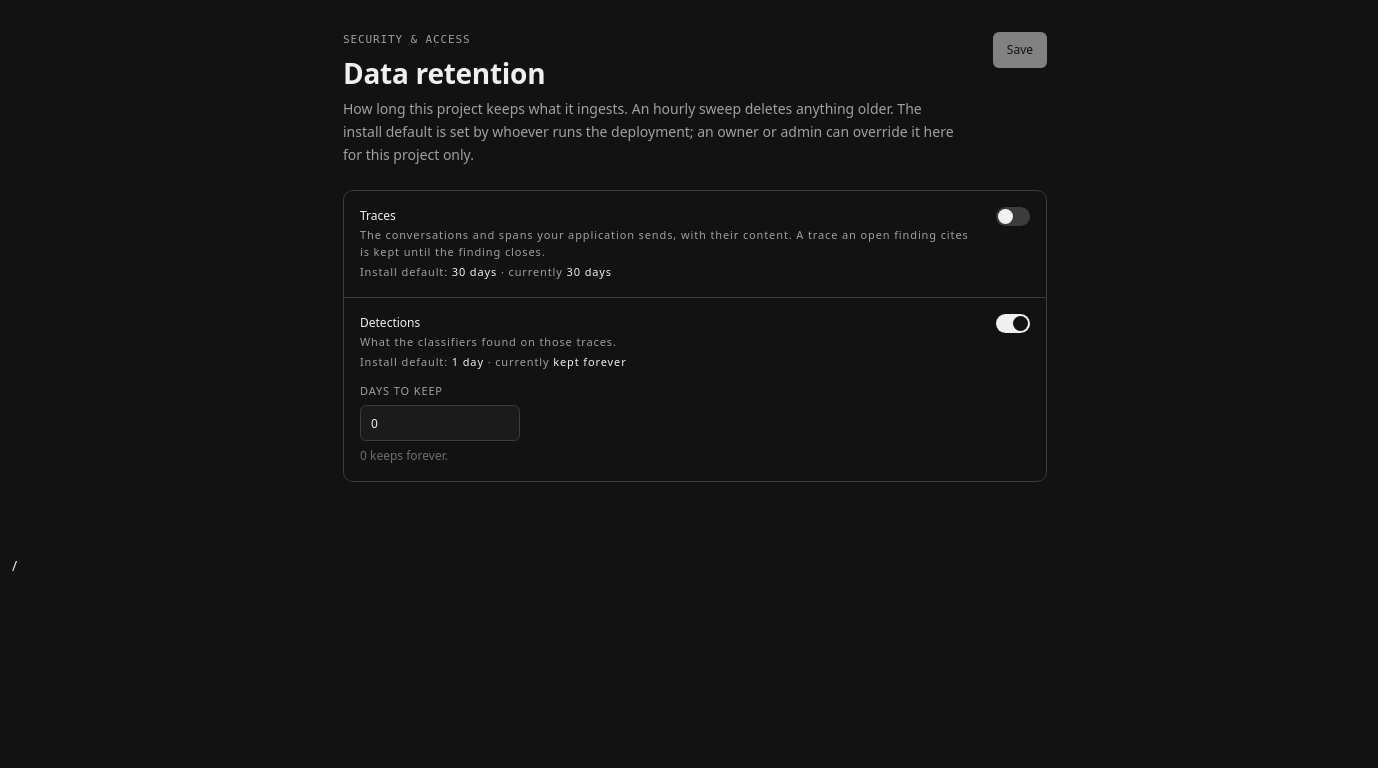
saving › shows what the server stored after a save, not what was typed
Expected: the text "Traces" is shown, [360,207,396,224]
Click the 1st switch named "Override for this project".
click(1013, 217)  # box [996,207,1030,226]
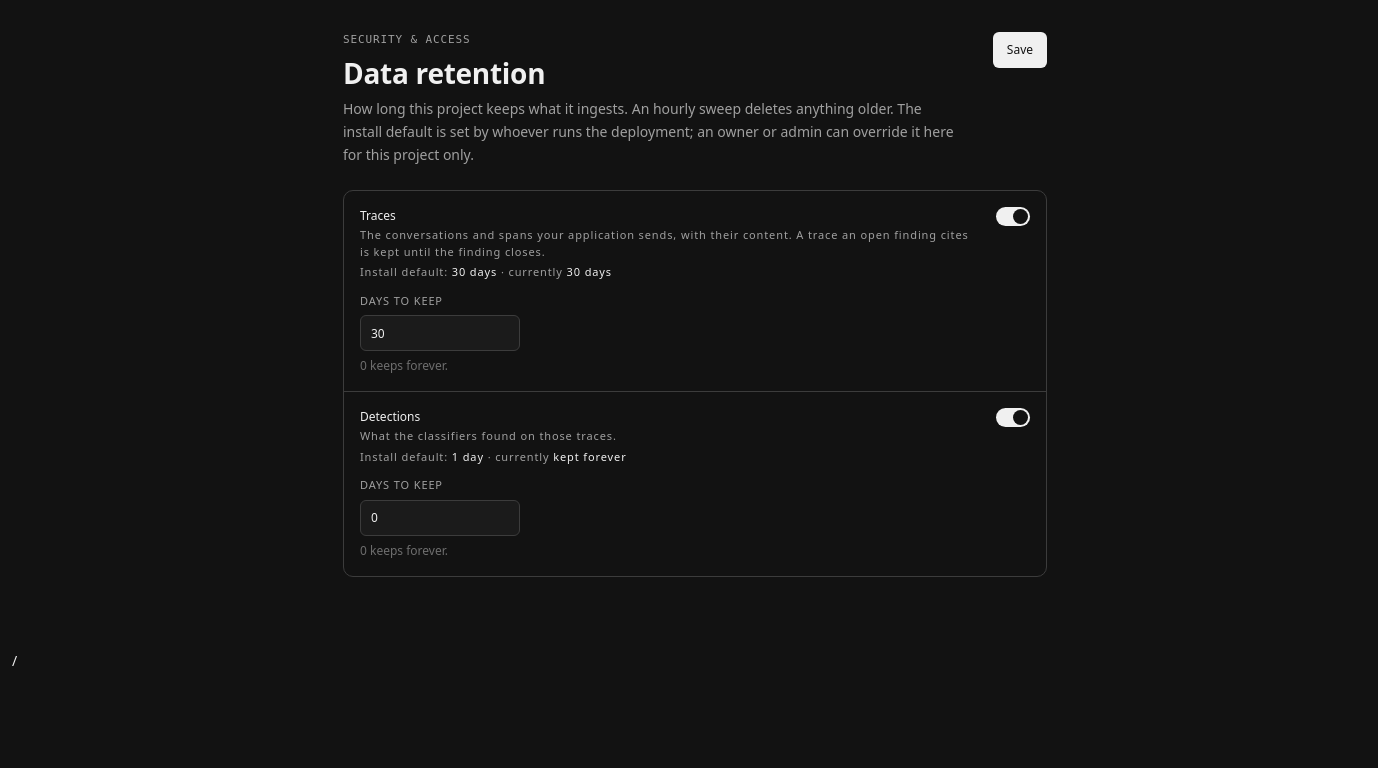
Replace the text in the 1st field labelled "Days to keep" with "7" at coordinates (440, 333), box [360,315,520,351]
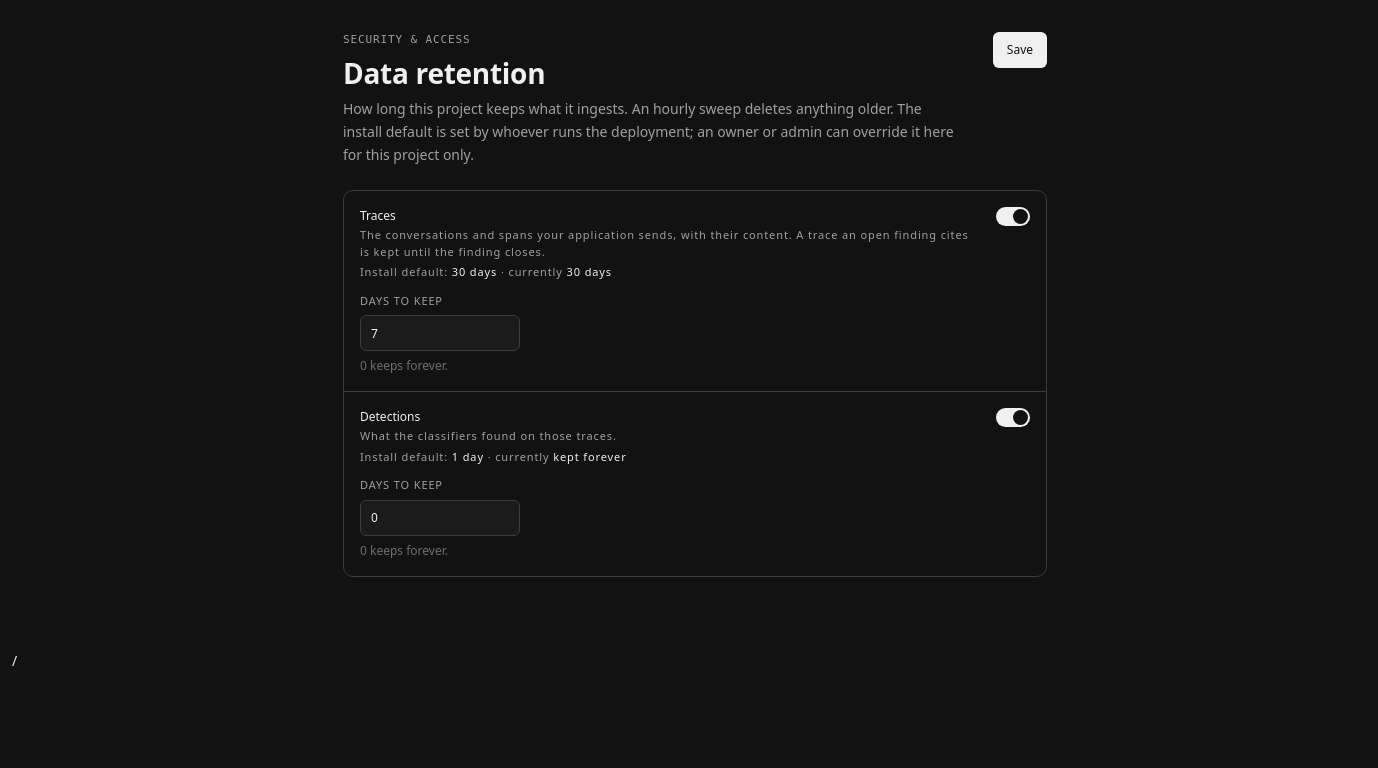
Click the button "Save".
click(1020, 50)  # box [993,32,1047,68]
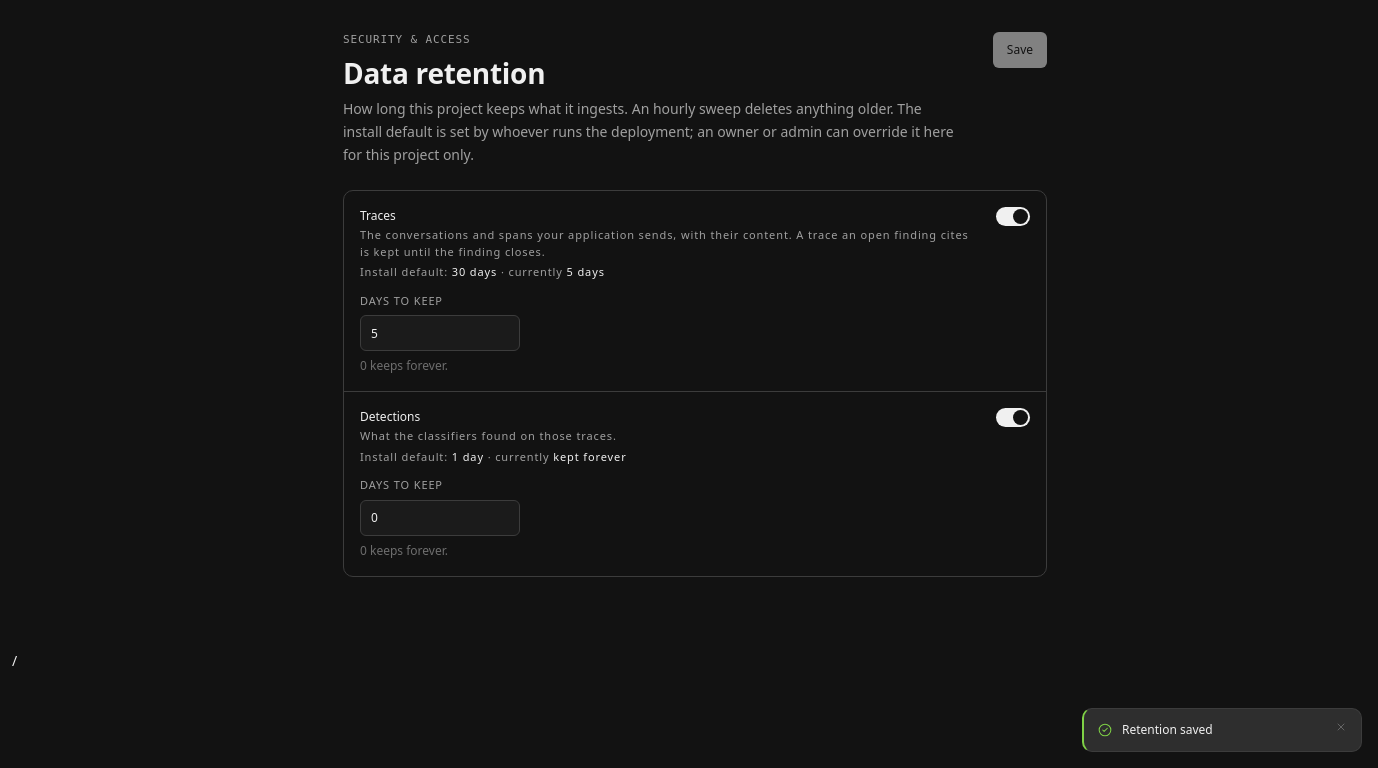
Now the field labelled "Days to keep" below "30 days" holds "5", box [360,315,520,351]
Now the button "Save" is disabled, box [993,32,1047,68]
